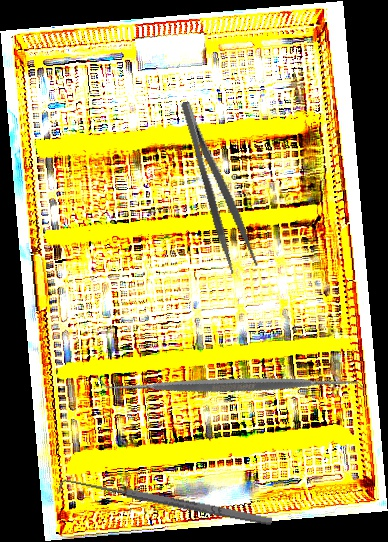Dressing Forceps: (176, 95, 260, 275)
Hook Surgical: (57, 473, 274, 536)
Spatula Surgical: (94, 248, 368, 521)
